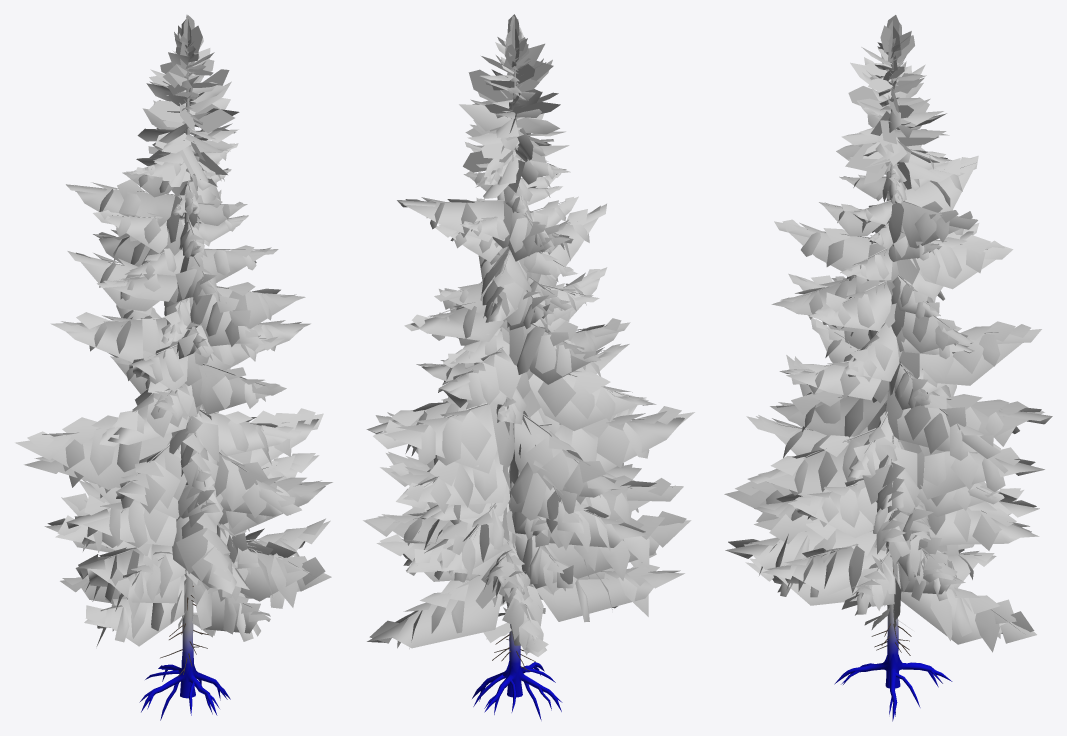
The model's file is Spruce_Tree1_LOD1.fbx.
The picture shows the model from 3 angles, left to right: view 1: azimuth 30°, elevation 25°; view 2: azimuth 150°, elevation 25°; view 3: azimuth 270°, elevation 25°; orthographic projection.
Visible parts, largest first — view 1: polySurface2661; view 2: polySurface2661; view 3: polySurface2661.
Part boxes in pixels (<box>): polySurface2661: <box>15,15,332,720</box>; polySurface2661: <box>363,14,694,720</box>; polySurface2661: <box>724,15,1052,721</box>.
Size of the model in its own units: 940 by 2224 by 958.
